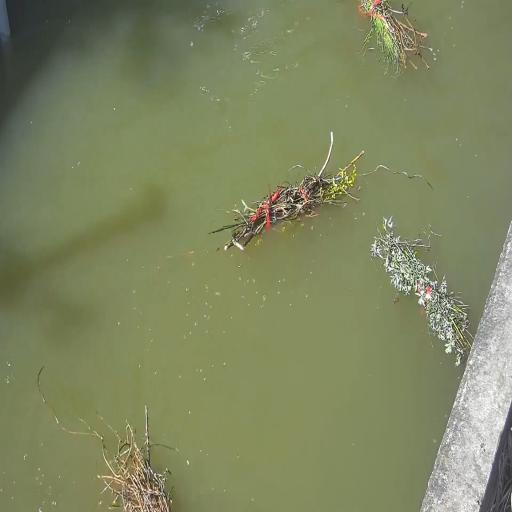twig: (211, 131, 364, 250), (370, 216, 471, 366), (98, 407, 171, 512), (358, 0, 429, 73)
